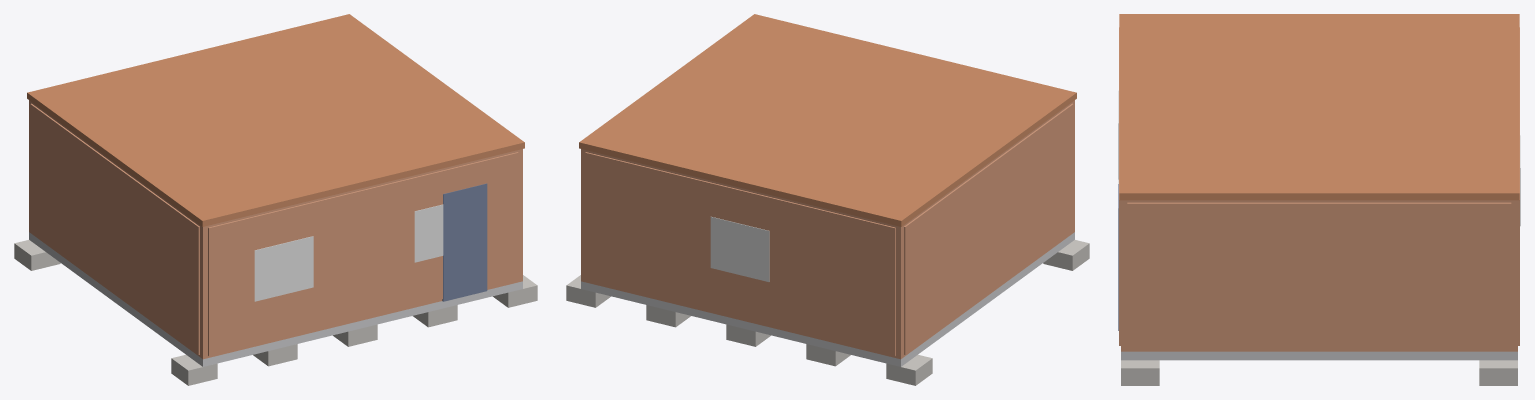
Rendered from Studio-20-Base-Terracotta-LOD2.glb.
3 renders of one model, left to right at view 1: azimuth 30°, elevation 25°; view 2: azimuth 150°, elevation 25°; view 3: azimuth 270°, elevation 25°, orthographic. The views are drawn at different scales.
Visible parts, largest first — view 1: RoofMain, ExteriorPanelsStandard, EntryDoor, WindowsStandard, FoundationBlocks, ExteriorShell, BaseFrame; view 2: ExteriorPanelsStandard, RoofMain, FoundationBlocks, BaseFrame, ExteriorShell, WindowsStandard; view 3: RoofMain, ExteriorPanelsStandard, ExteriorShell, BaseFrame, FoundationBlocks.
Boxes of the visible parts, box(x1,y1,x2,y2) form: RoofMain: box(27, 14, 524, 226); ExteriorPanelsStandard: box(30, 103, 518, 355); EntryDoor: box(442, 183, 487, 301); WindowsStandard: box(254, 204, 443, 301); FoundationBlocks: box(14, 240, 537, 385); ExteriorShell: box(29, 100, 522, 359); BaseFrame: box(29, 232, 522, 366); ExteriorPanelsStandard: box(585, 103, 1073, 355); RoofMain: box(579, 14, 1076, 226); FoundationBlocks: box(566, 240, 1089, 385); BaseFrame: box(581, 232, 1074, 366); ExteriorShell: box(581, 100, 1074, 359); WindowsStandard: box(710, 216, 769, 281); RoofMain: box(1119, 14, 1519, 200); ExteriorPanelsStandard: box(1119, 27, 1519, 349); ExteriorShell: box(1121, 200, 1517, 351); BaseFrame: box(1121, 351, 1517, 360); FoundationBlocks: box(1121, 360, 1517, 385).
Bounding box in the file's own units: 7.14 × 3.17 × 6.24.
